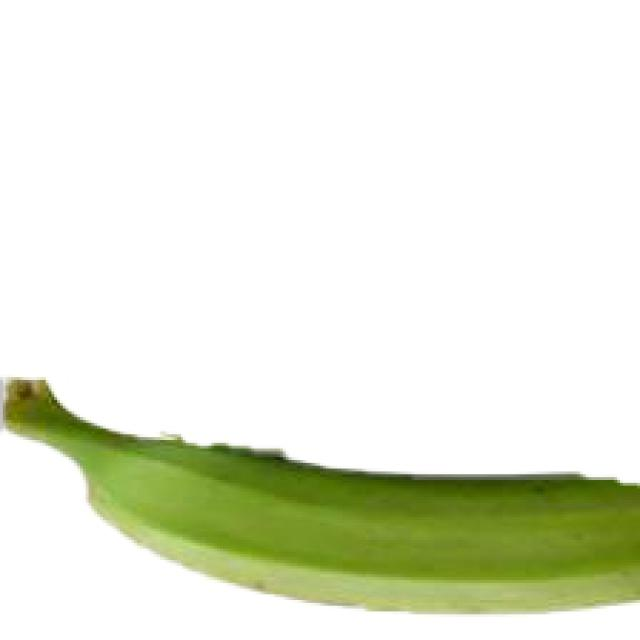fresh-banana: (0, 372, 637, 614)
